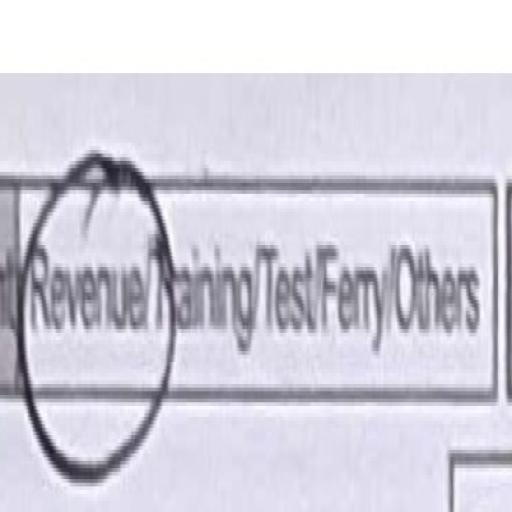check: (20, 103, 151, 480)
